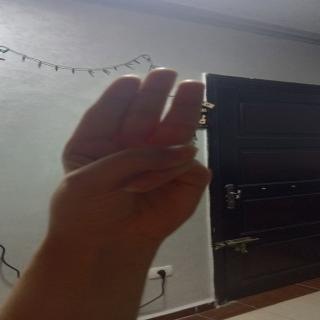THA: (44, 67, 256, 251)
